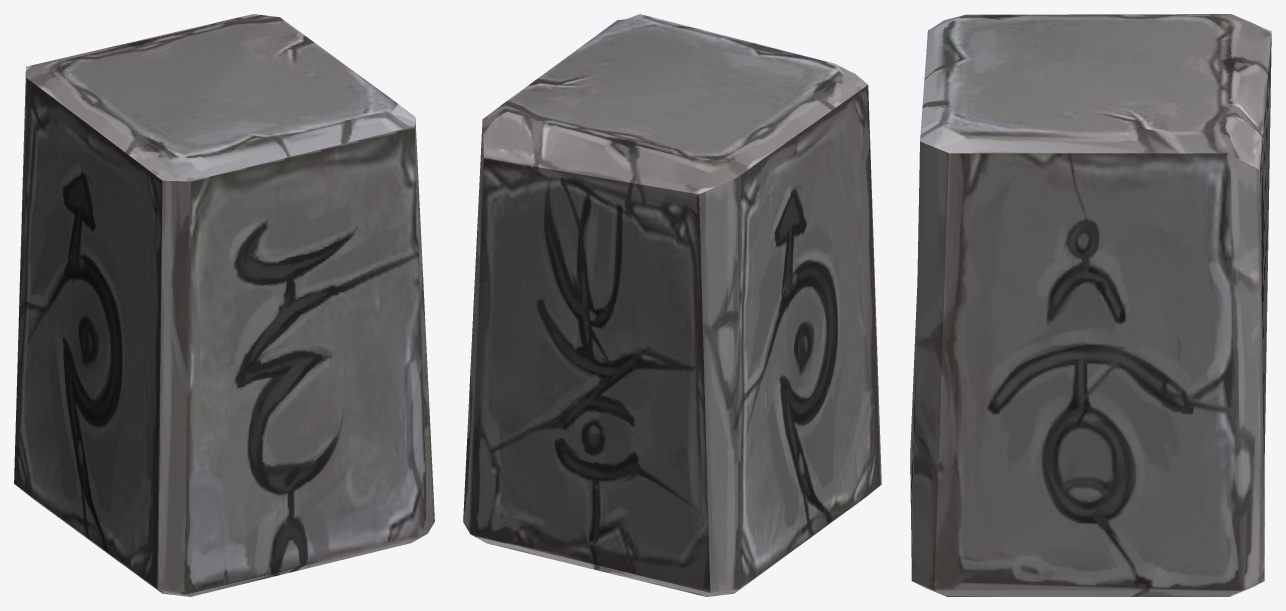
File: odelisk_box2.FBX
3 renders of one model, left to right at view 1: azimuth 30°, elevation 25°; view 2: azimuth 150°, elevation 25°; view 3: azimuth 270°, elevation 25°, orthographic. The views are drawn at different scales.
Parts seen in each view (by area): view 1: lock005; view 2: lock005; view 3: lock005.
Boxes of the visible parts, <box> form: lock005: <box>14,14,434,596</box>; lock005: <box>463,14,881,596</box>; lock005: <box>910,14,1271,596</box>.
Size of the model in its own units: 164 by 242 by 173.
